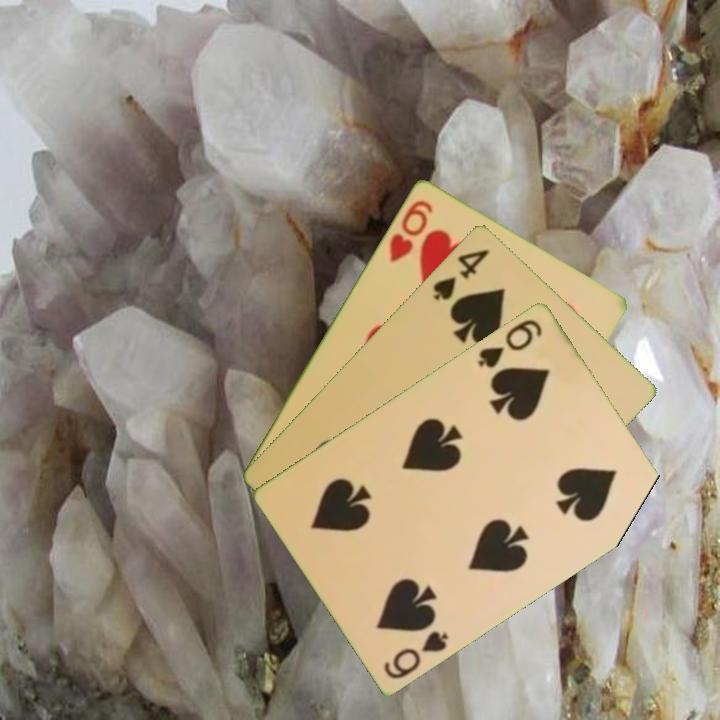4s: (429, 244, 493, 303)
6h: (385, 195, 436, 265)
6s: (380, 626, 452, 682), (474, 315, 545, 370)
